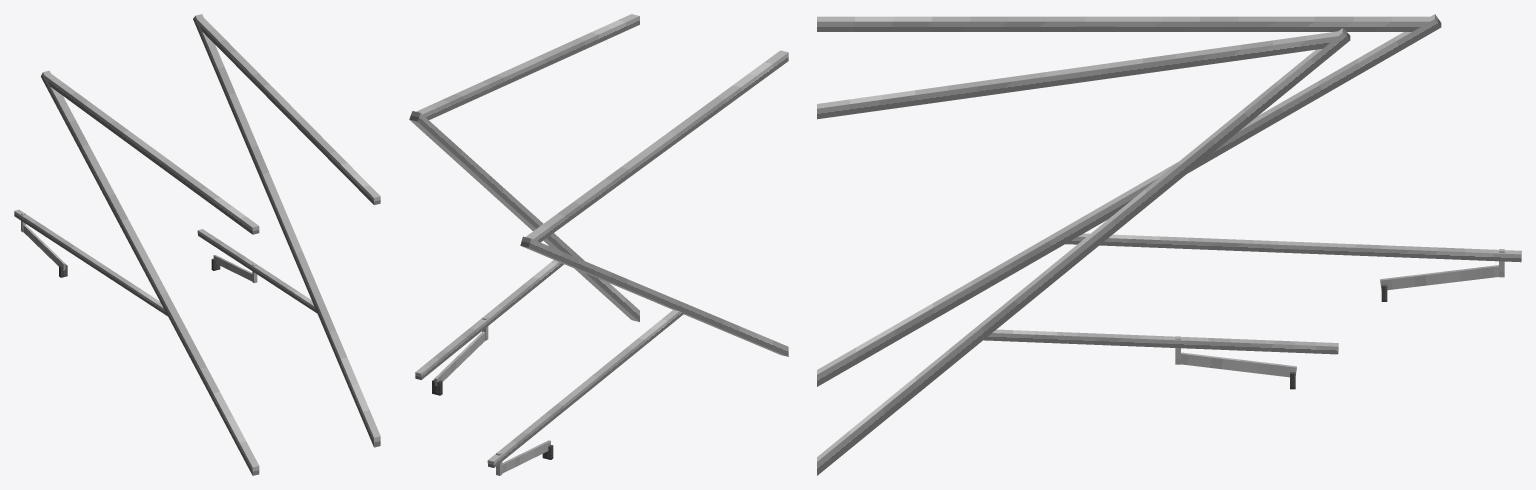
The model's file is cantilever_center_5px.obj.
3 renders of one model, left to right at view 1: azimuth 30°, elevation 25°; view 2: azimuth 150°, elevation 25°; view 3: azimuth 270°, elevation 25°, orthographic. The views are drawn at different scales.
Parts seen in each view (by area): view 1: d023147e-1ab7-4bb5-a5bf-e3c0dc0d170b, df06d8bb-772a-42d8-b358-f8d58f444665, 7f696a89-5b2e-4487-a67f-04d54e14e6de, 1ebbb5cf-7a1f-45ad-9261-654cf7baa341, a9aa52a4-d623-4126-af6d-97db58106808, f8366399-4a91-4659-8685-506c1fc16c33, 8ad580f7-cd35-4c7b-8802-a6689c6d1e0f; view 2: 7f696a89-5b2e-4487-a67f-04d54e14e6de, d023147e-1ab7-4bb5-a5bf-e3c0dc0d170b, df06d8bb-772a-42d8-b358-f8d58f444665, 1ebbb5cf-7a1f-45ad-9261-654cf7baa341, a9aa52a4-d623-4126-af6d-97db58106808, f8366399-4a91-4659-8685-506c1fc16c33, 09231531-f94b-4acd-8ded-0884469fbb95, 8ad580f7-cd35-4c7b-8802-a6689c6d1e0f; view 3: d023147e-1ab7-4bb5-a5bf-e3c0dc0d170b, 7f696a89-5b2e-4487-a67f-04d54e14e6de, df06d8bb-772a-42d8-b358-f8d58f444665, 1ebbb5cf-7a1f-45ad-9261-654cf7baa341, a9aa52a4-d623-4126-af6d-97db58106808, f8366399-4a91-4659-8685-506c1fc16c33, 8ad580f7-cd35-4c7b-8802-a6689c6d1e0f, 09231531-f94b-4acd-8ded-0884469fbb95.
Boxes of the visible parts, <box> form: d023147e-1ab7-4bb5-a5bf-e3c0dc0d170b: <box>193,14,380,447</box>; df06d8bb-772a-42d8-b358-f8d58f444665: <box>41,70,259,475</box>; 7f696a89-5b2e-4487-a67f-04d54e14e6de: <box>44,73,259,234</box>; 1ebbb5cf-7a1f-45ad-9261-654cf7baa341: <box>197,17,380,204</box>; a9aa52a4-d623-4126-af6d-97db58106808: <box>14,209,167,316</box>; f8366399-4a91-4659-8685-506c1fc16c33: <box>197,229,317,313</box>; 8ad580f7-cd35-4c7b-8802-a6689c6d1e0f: <box>23,224,65,270</box>; 7f696a89-5b2e-4487-a67f-04d54e14e6de: <box>525,50,788,242</box>; d023147e-1ab7-4bb5-a5bf-e3c0dc0d170b: <box>409,111,639,321</box>; df06d8bb-772a-42d8-b358-f8d58f444665: <box>520,236,788,356</box>; 1ebbb5cf-7a1f-45ad-9261-654cf7baa341: <box>416,14,639,119</box>; a9aa52a4-d623-4126-af6d-97db58106808: <box>487,310,684,467</box>; f8366399-4a91-4659-8685-506c1fc16c33: <box>415,260,563,379</box>; 09231531-f94b-4acd-8ded-0884469fbb95: <box>434,331,485,386</box>; 8ad580f7-cd35-4c7b-8802-a6689c6d1e0f: <box>502,440,550,473</box>; d023147e-1ab7-4bb5-a5bf-e3c0dc0d170b: <box>817,28,1350,475</box>; 7f696a89-5b2e-4487-a67f-04d54e14e6de: <box>817,16,1430,31</box>; df06d8bb-772a-42d8-b358-f8d58f444665: <box>817,14,1441,386</box>; 1ebbb5cf-7a1f-45ad-9261-654cf7baa341: <box>817,31,1338,119</box>; a9aa52a4-d623-4126-af6d-97db58106808: <box>1065,233,1521,262</box>; f8366399-4a91-4659-8685-506c1fc16c33: <box>983,329,1338,354</box>; 8ad580f7-cd35-4c7b-8802-a6689c6d1e0f: <box>1380,265,1498,290</box>; 09231531-f94b-4acd-8ded-0884469fbb95: <box>1181,352,1296,377</box>.
Bounding box in the file's own units: 1.19 × 2.67 × 3.84.
